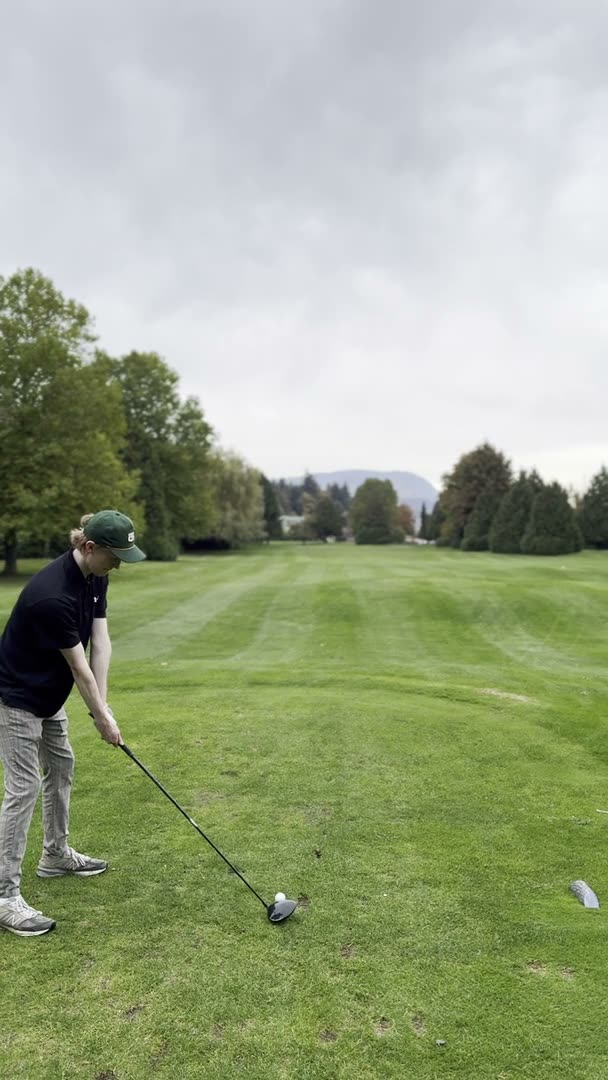Golf Ball: (270, 891, 289, 908)
